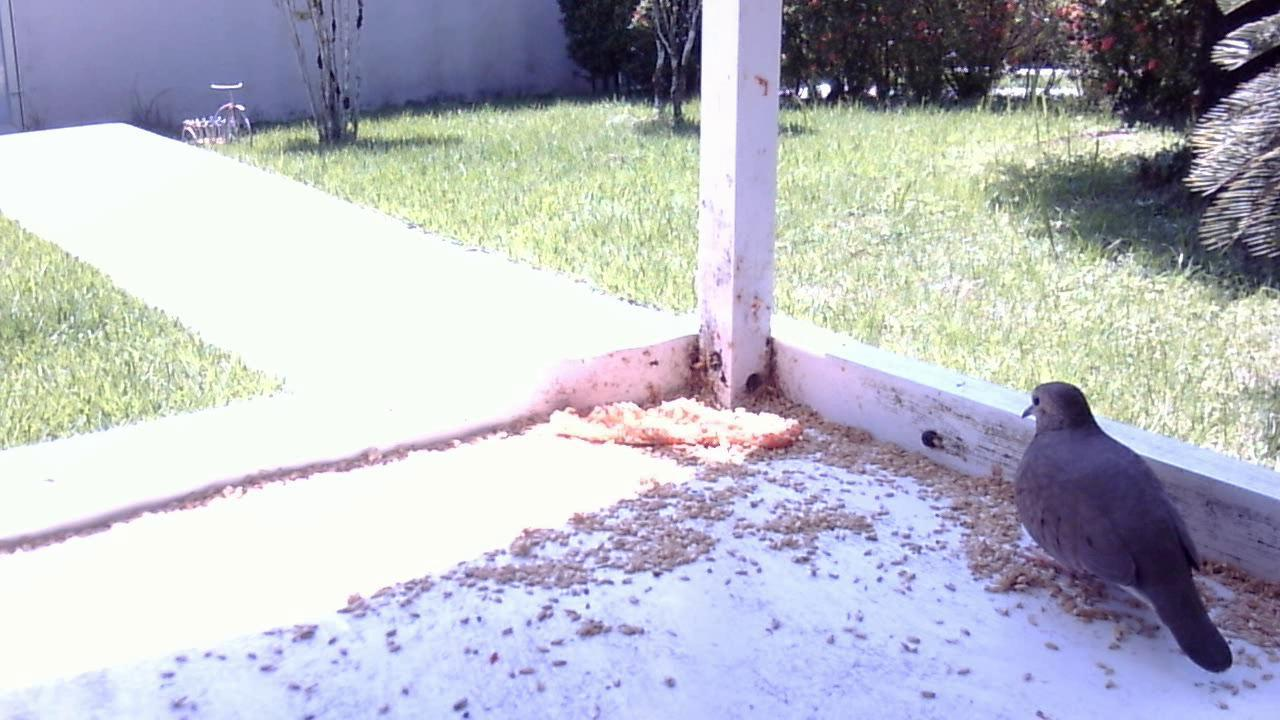rolinha: (982, 373, 1246, 677)
